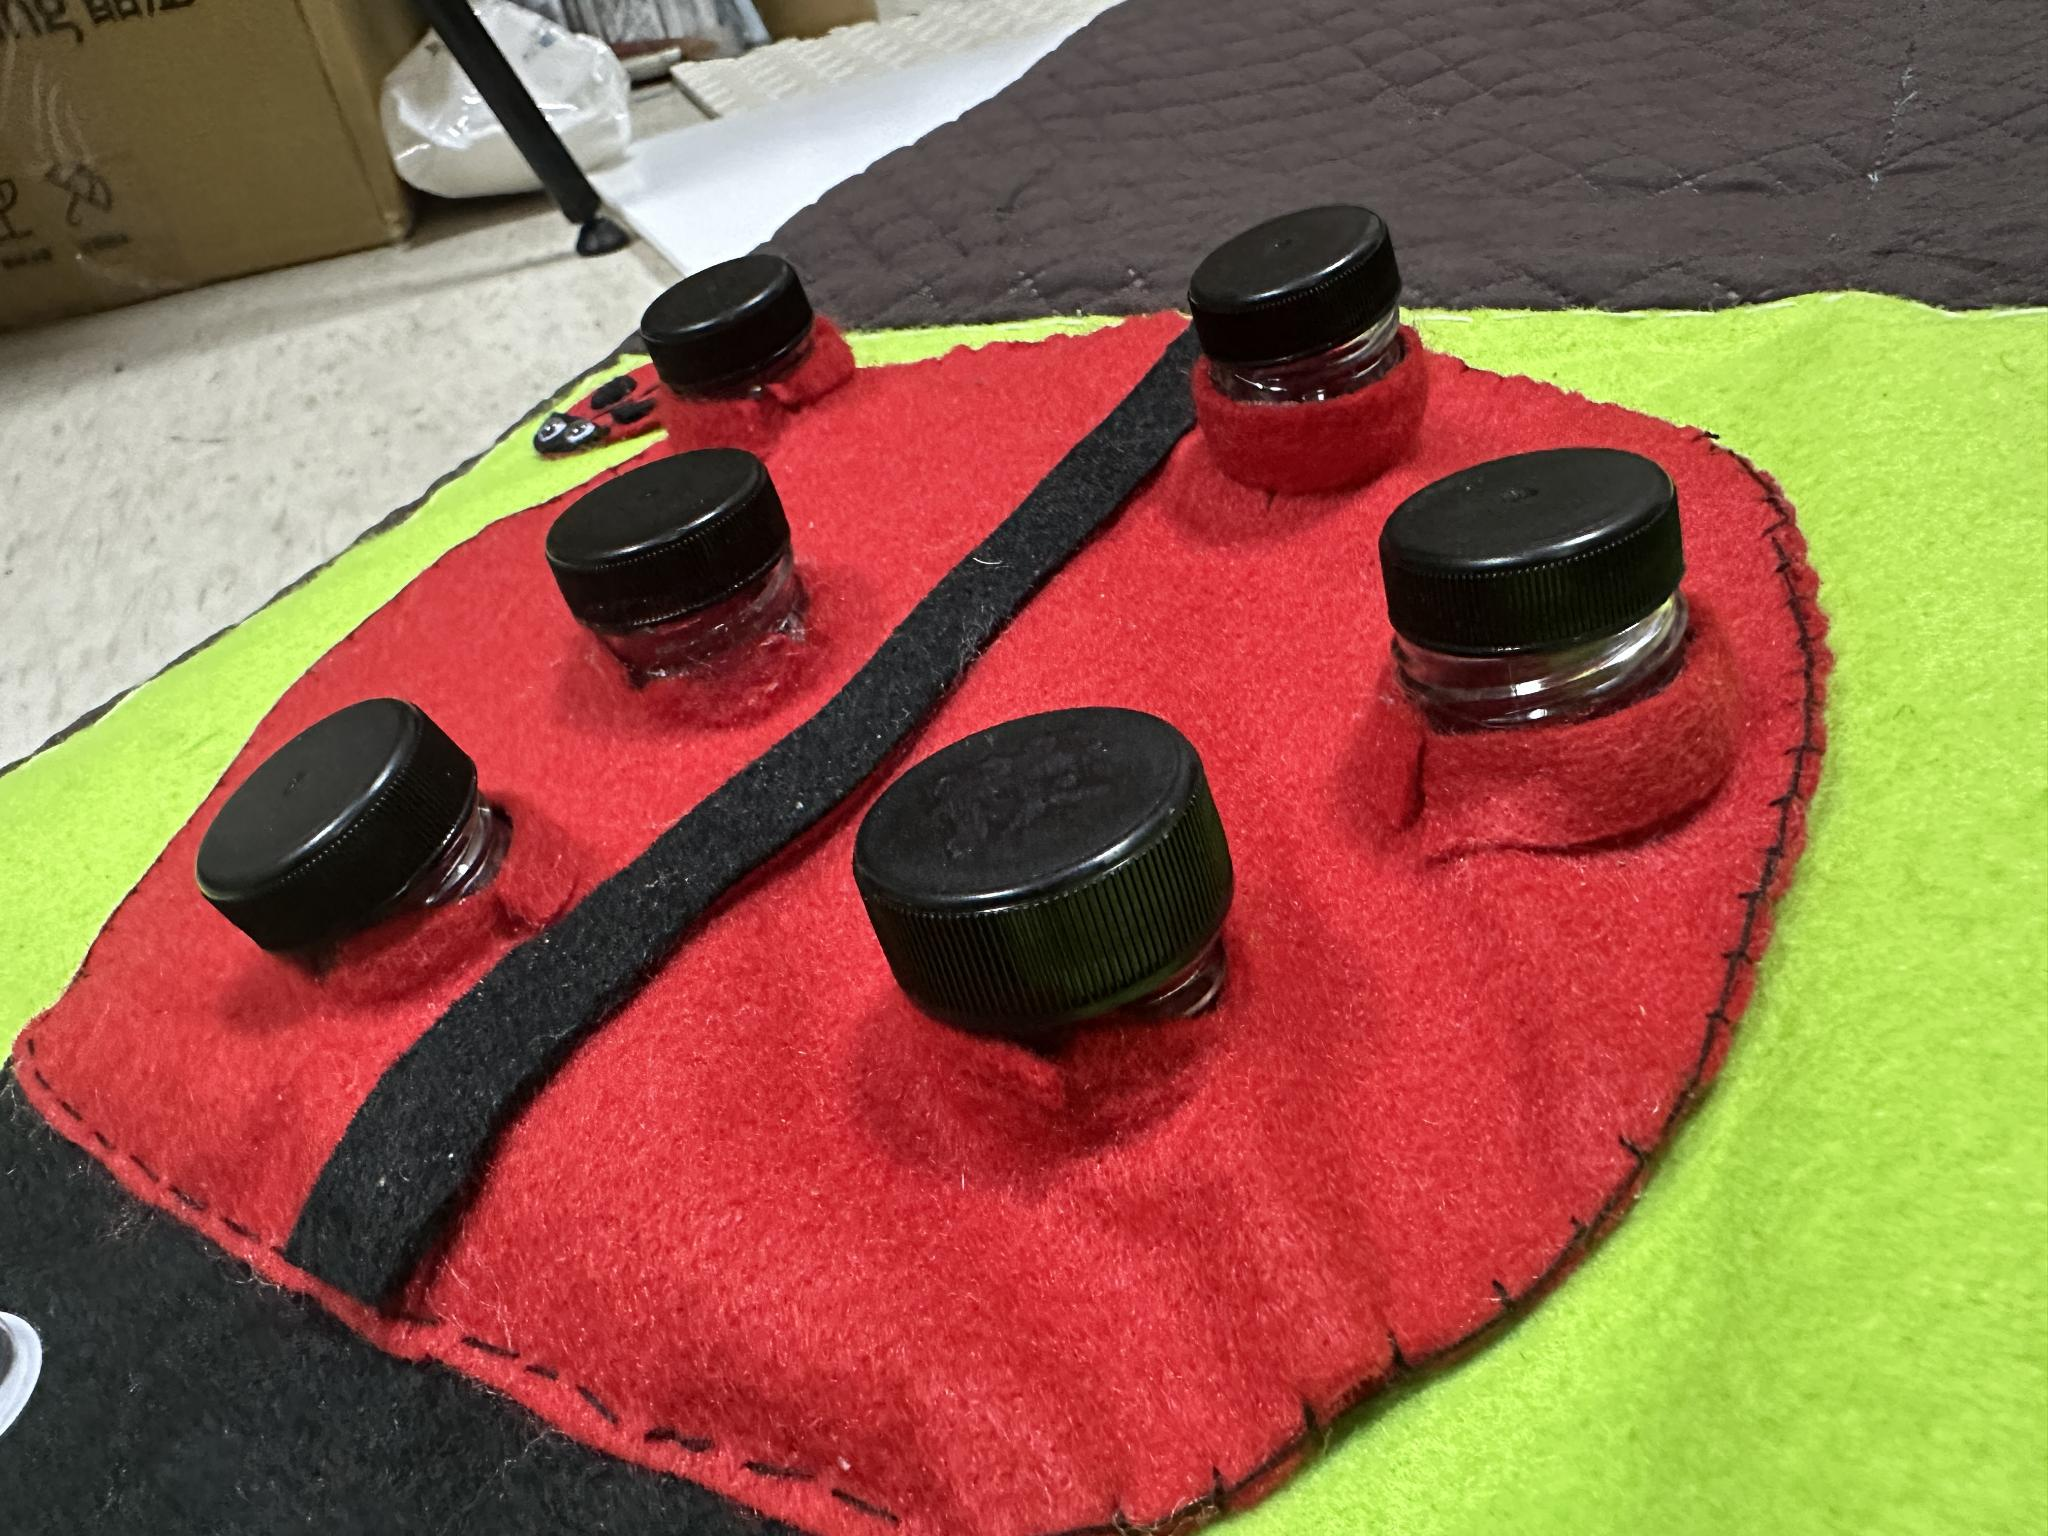cap_ng: (1369, 432, 1722, 863), (182, 689, 543, 1005), (535, 437, 843, 726), (1171, 194, 1429, 487)
cap_ok: (834, 684, 1264, 1118), (635, 240, 863, 434)
